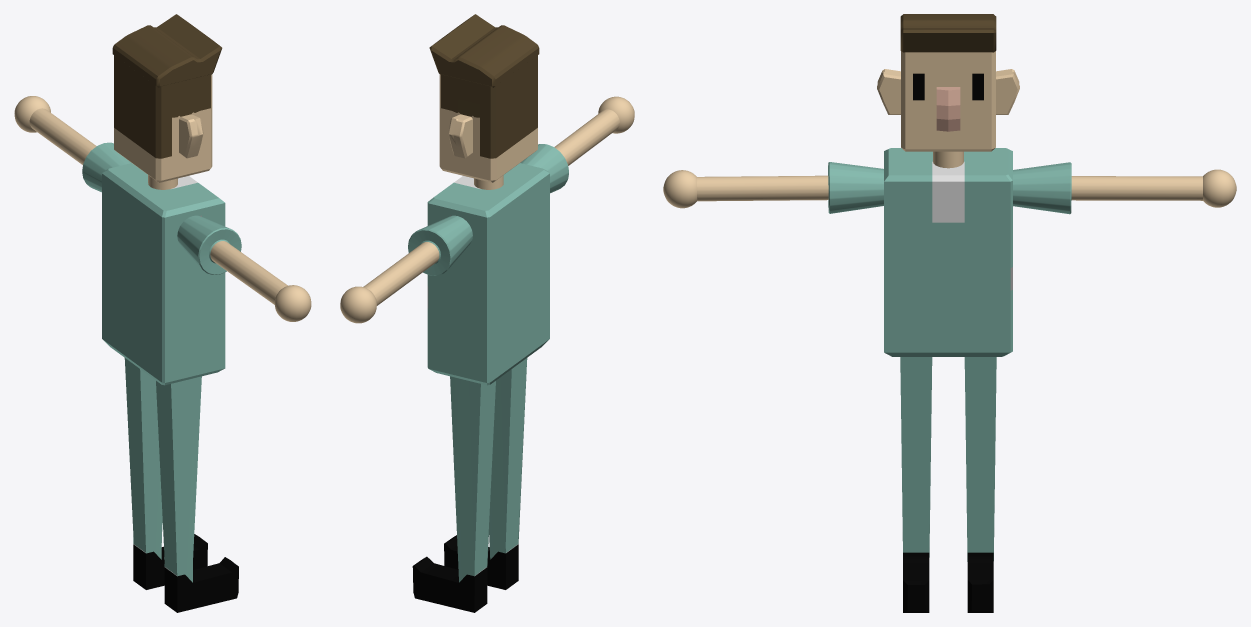
File: Nurse_Steve.fbx
3 renders of one model, left to right at view 1: azimuth 30°, elevation 25°; view 2: azimuth 150°, elevation 25°; view 3: azimuth 270°, elevation 25°, orthographic. The views are drawn at different scales.
Visible parts, largest first — view 1: Body1; view 2: Body1; view 3: Body1.
Part boxes in pixels (x1=…): Body1: x1=14, y1=14, x2=311, y2=612; Body1: x1=340, y1=14, x2=634, y2=612; Body1: x1=663, y1=14, x2=1236, y2=612.
Bounding box in the file's own units: 1.78 × 10.84 × 9.8.
